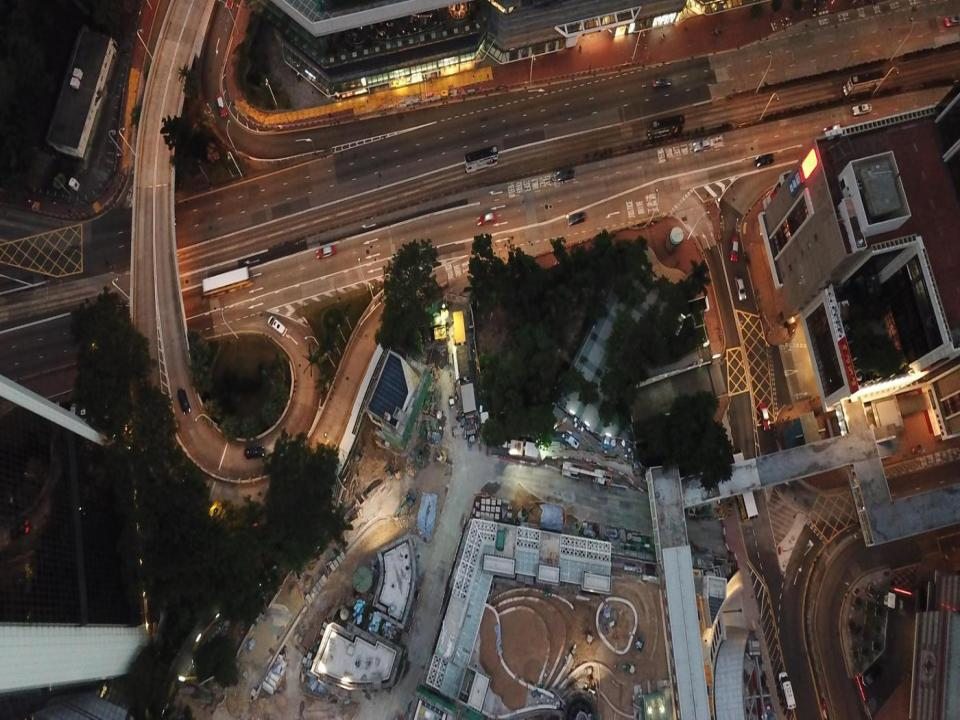bus: (730, 448, 758, 523), (202, 266, 249, 295), (844, 69, 884, 95), (463, 146, 498, 173)
car: (177, 388, 191, 415), (214, 93, 228, 117), (315, 244, 337, 258), (759, 402, 770, 430), (477, 212, 498, 225), (243, 446, 264, 459), (852, 103, 872, 116), (692, 140, 714, 151), (652, 76, 671, 88), (729, 237, 738, 262), (822, 125, 844, 135)
van: (648, 115, 685, 141), (778, 672, 796, 709), (267, 316, 288, 336), (754, 153, 774, 167), (568, 212, 586, 227), (735, 278, 746, 302), (556, 168, 574, 182), (945, 16, 959, 26)
